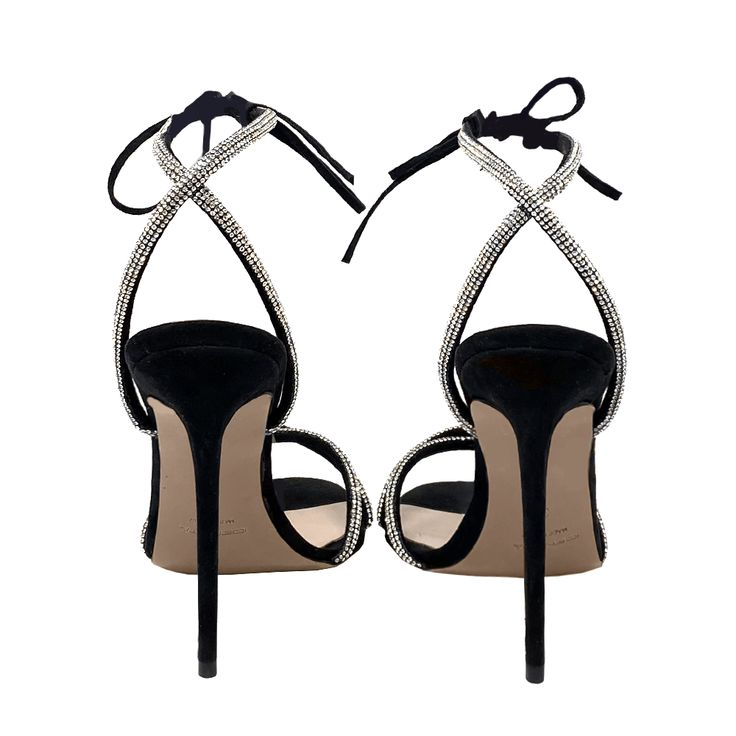gamuza: (125, 318, 614, 674)
